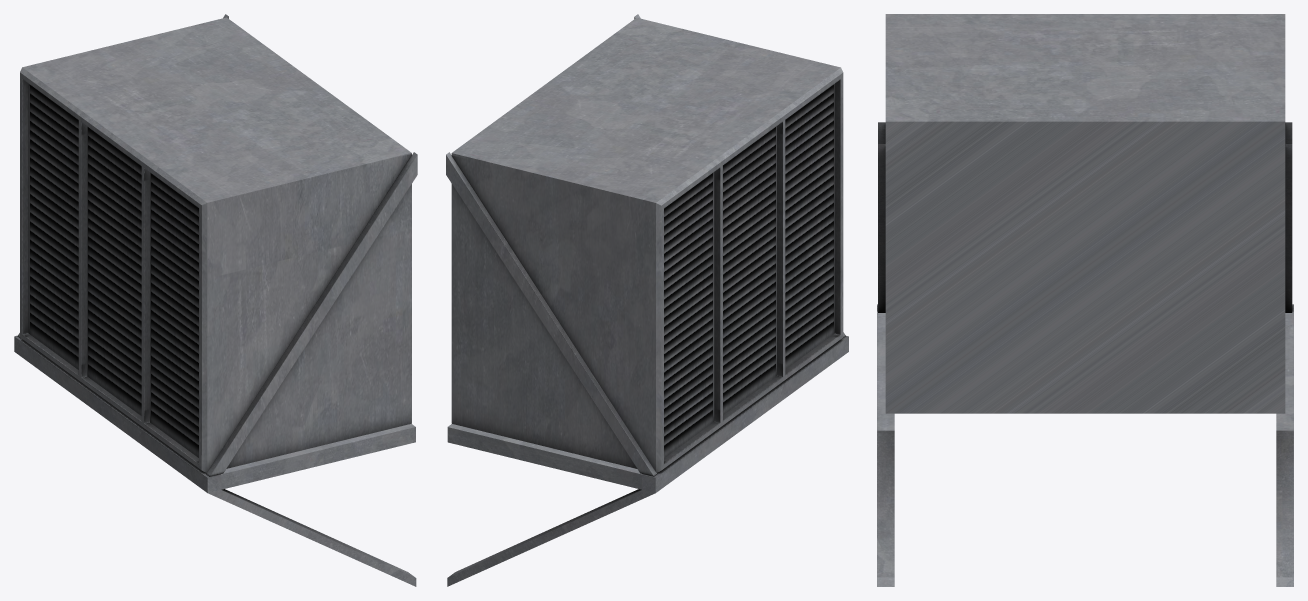
File: aircooler.FBX
3 views of the same model, side by side, from view 1: azimuth 30°, elevation 25°; view 2: azimuth 150°, elevation 25°; view 3: azimuth 270°, elevation 25° (orthographic). The views are drawn at different scales.
Parts seen in each view (by area): view 1: aircooler; view 2: aircooler; view 3: aircooler.
Part boxes in pixels (<box>): aircooler: <box>14,14,417,586</box>; aircooler: <box>446,14,848,586</box>; aircooler: <box>877,14,1293,586</box>.
Size of the model in its own units: 43.06 by 84.31 by 68.43.
